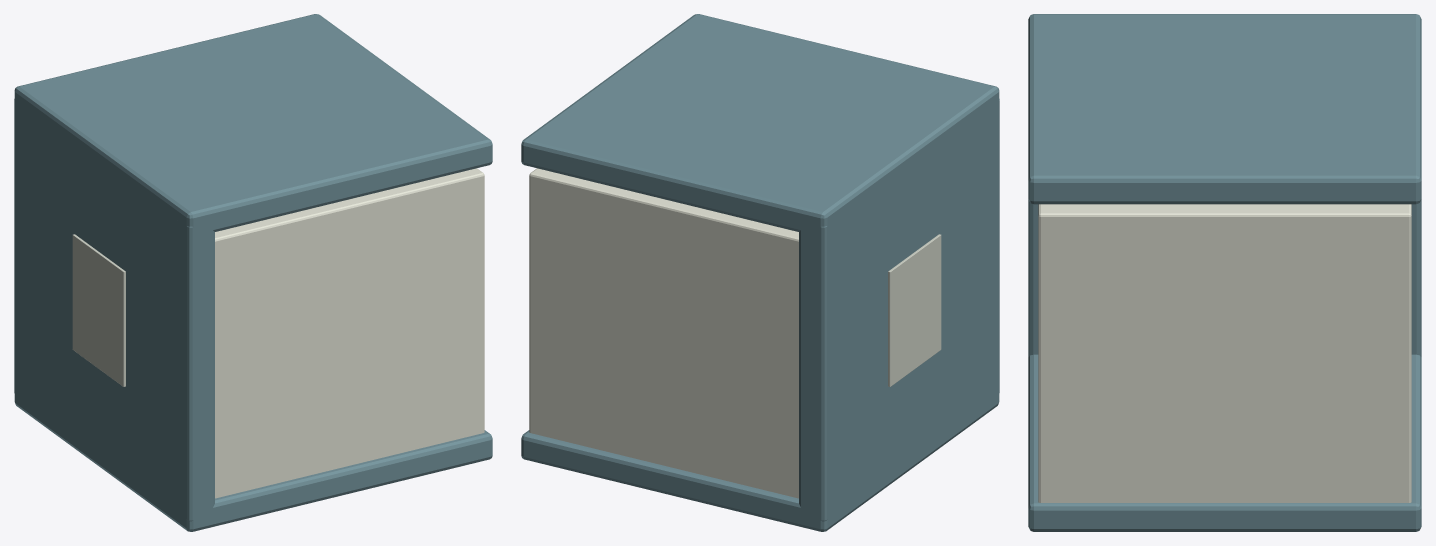
File: office-binder.glb
3 views of the same model, side by side, from view 1: azimuth 30°, elevation 25°; view 2: azimuth 150°, elevation 25°; view 3: azimuth 270°, elevation 25° (orthographic). The views are drawn at different scales.
Visible parts, largest first — view 1: office blue.001, office paper.001, office cream.001; view 2: office blue.001, office paper.001, office cream.001; view 3: office paper.001, office blue.001.
Part boxes in pixels (x1,y1,x2,y2): office blue.001: (14, 14, 492, 531); office paper.001: (215, 168, 484, 498); office cream.001: (72, 234, 125, 386); office blue.001: (521, 14, 999, 531); office paper.001: (529, 168, 798, 498); office cream.001: (888, 234, 941, 386); office paper.001: (1038, 204, 1411, 502); office blue.001: (1028, 14, 1421, 531).
Size of the model in its own units: 1.01 by 1 by 1.
